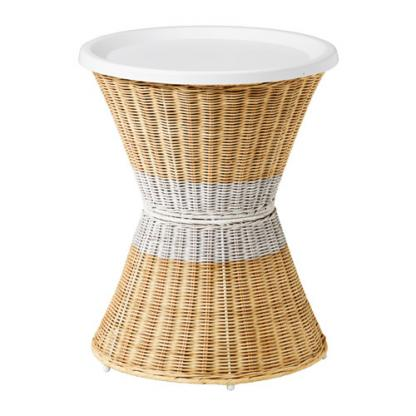Table: (72, 19, 343, 393)
